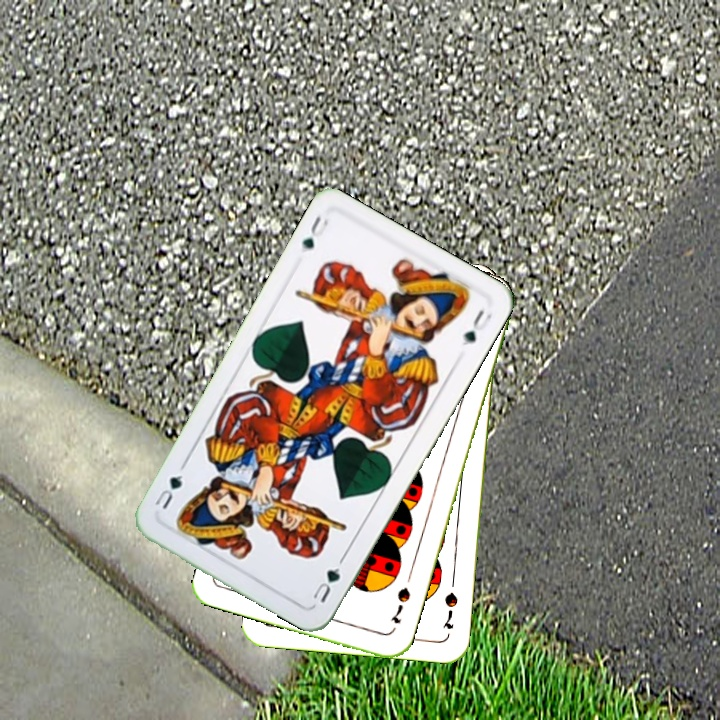GU: (309, 554, 347, 606), (296, 211, 331, 256)
S7: (386, 583, 413, 627), (438, 588, 461, 632)
